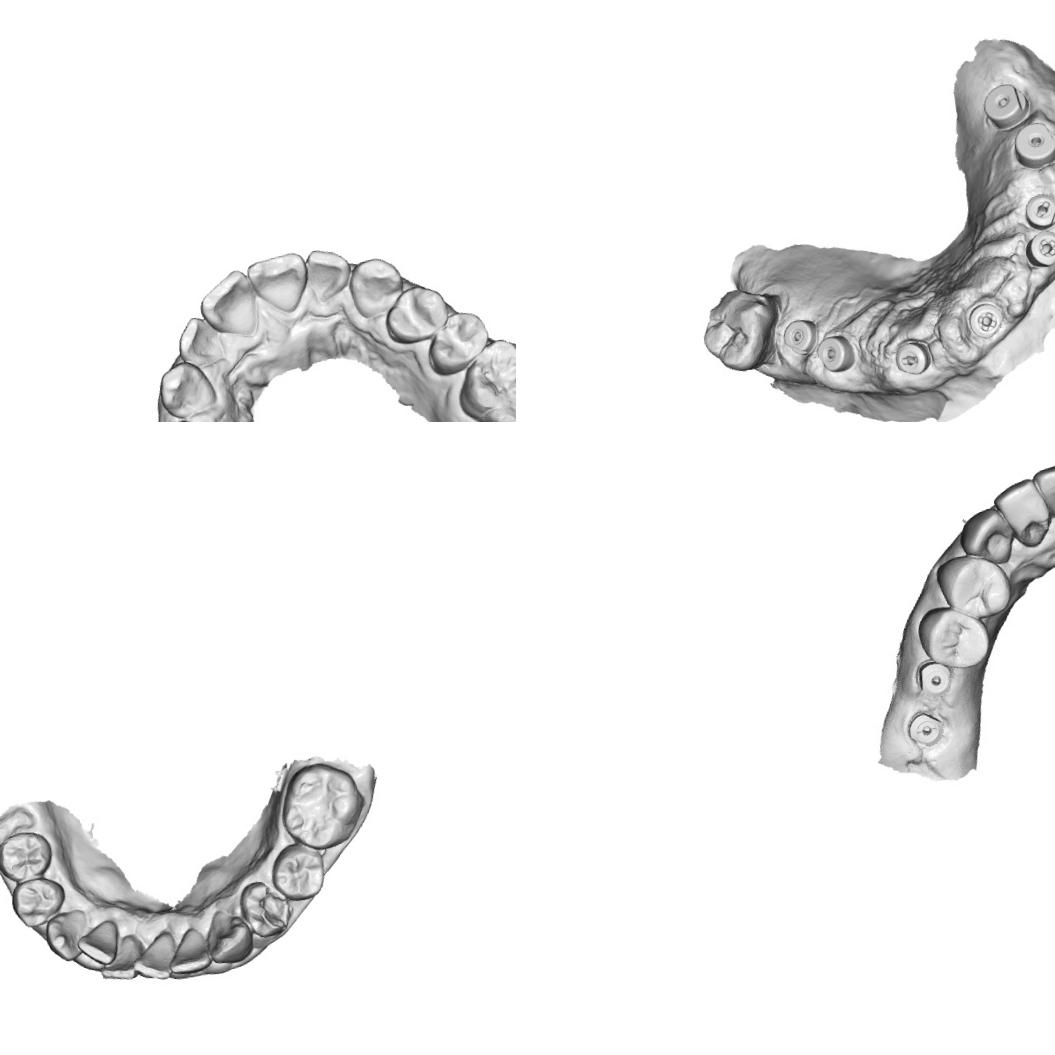canine: (344, 252, 408, 323), (153, 357, 220, 422), (957, 506, 1015, 568), (208, 910, 254, 963), (45, 910, 86, 962)
implant: (978, 80, 1034, 134), (1009, 119, 1055, 172), (912, 654, 958, 704), (813, 331, 858, 375), (780, 314, 821, 356)
implant_minus: (890, 335, 936, 378), (903, 709, 943, 749), (1021, 191, 1055, 231)
implant_plus: (965, 298, 1007, 341), (1020, 227, 1055, 272)
incisor: (192, 266, 262, 339), (241, 247, 310, 320), (992, 474, 1050, 550), (299, 246, 353, 304), (172, 312, 228, 367), (164, 927, 216, 979), (129, 934, 179, 983), (95, 940, 144, 986), (75, 924, 118, 968), (1035, 460, 1055, 522)
molar: (277, 760, 370, 852), (696, 283, 786, 378), (452, 334, 516, 422)
premolar: (935, 550, 1013, 622), (916, 600, 990, 674), (420, 304, 496, 376), (380, 282, 454, 346), (238, 878, 295, 942), (9, 874, 70, 931), (270, 843, 327, 900), (0, 829, 52, 882)
